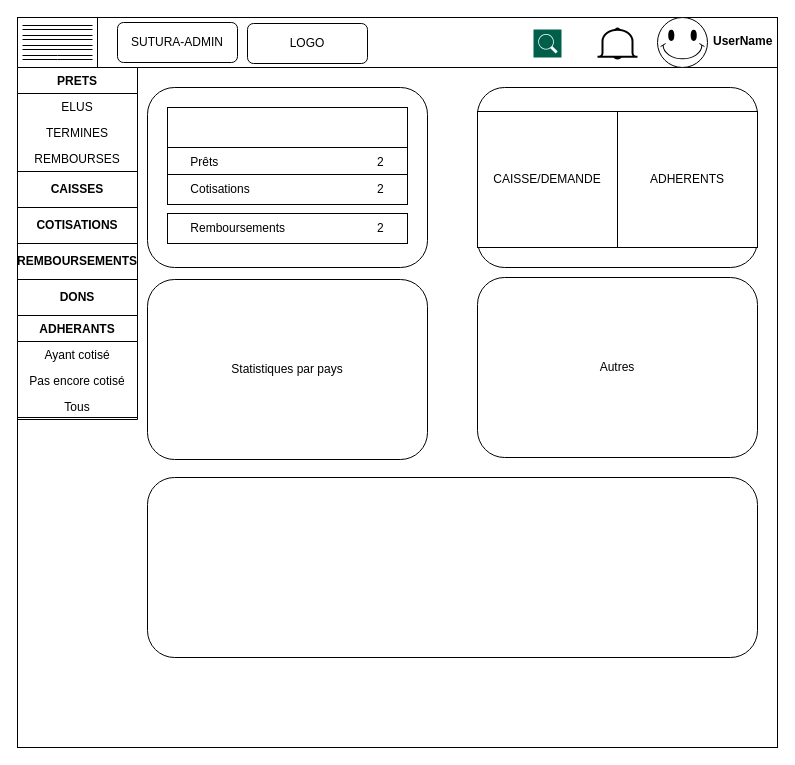
The diagram is 795 pixels wide and 765 high, and some of its shapes have lost their labels. Each missing label, with the centre of its shape:
"Entités Nombres" goes at (x=287, y=127).
"Google analytics" goes at (x=452, y=567).
